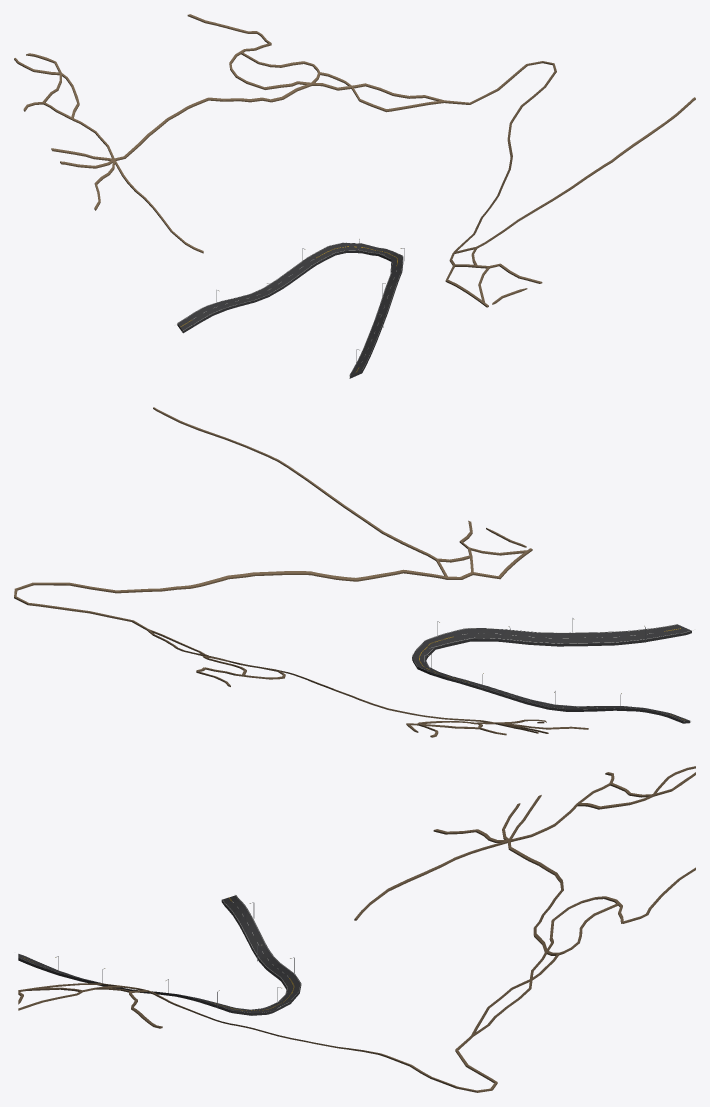
3 renders of one model, top to bottom at view 1: azimuth 30°, elevation 25°; view 2: azimuth 150°, elevation 25°; view 3: azimuth 270°, elevation 25°, orthographic. The views are drawn at different scales.
Size of the model in its own units: 296 by 81.26 by 293.
